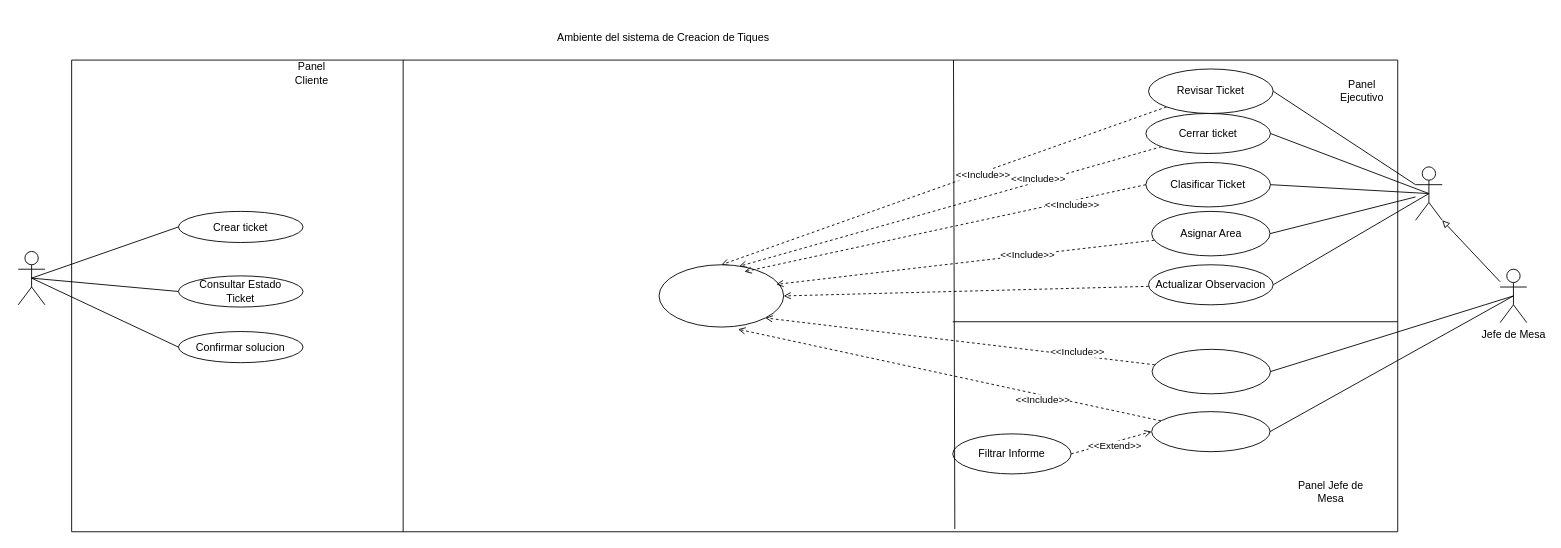
The diagram is 1561 pixels wide and 548 high, and some of its shapes have lost their labels. The shapes that lost their labels are listed below. From the top down, each one's centre as x and y in pixels, then its label:
At pixel 1428 193: "Ejecutivo".
At pixel 31 278: "Cliente".
At pixel 721 295: "Login (Iniciar Sesion)".
At pixel 1210 371: "Consultar Historial".
At pixel 1210 431: "Generar informe".
